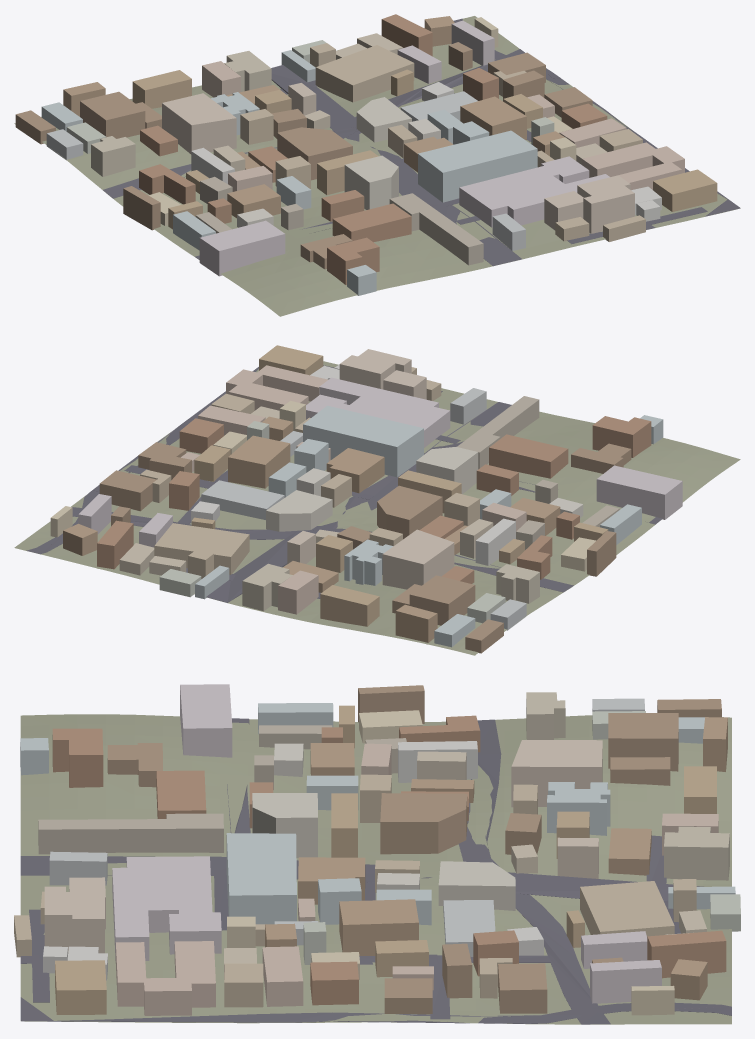
Rendered from chunk_7_5.glb.
The picture shows the model from 3 angles, top to bottom: view 1: azimuth 30°, elevation 25°; view 2: azimuth 150°, elevation 25°; view 3: azimuth 270°, elevation 25°; orthographic projection. The views are drawn at different scales.
Parts seen in each view (by area): view 1: geometry_100, geometry_54, geometry_98, geometry_46, geometry_97, geometry_2, geometry_73, geometry_10, geometry_87, geometry_0, geometry_3, geometry_43 (+66 smaller); view 2: geometry_100, geometry_54, geometry_98, geometry_2, geometry_97, geometry_73, geometry_46, geometry_3, geometry_45, geometry_72, geometry_0, geometry_82 (+66 smaller); view 3: geometry_100, geometry_98, geometry_10, geometry_54, geometry_73, geometry_45, geometry_46, geometry_97, geometry_2, geometry_72, geometry_107, geometry_87 (+84 smaller).
Part boxes in pixels (x1,y1,x2,y2): geometry_100: (14, 16, 740, 316); geometry_54: (418, 130, 537, 202); geometry_98: (459, 156, 609, 227); geometry_46: (315, 45, 414, 102); geometry_97: (162, 93, 236, 154); geometry_2: (199, 220, 285, 276); geometry_73: (582, 142, 684, 190); geometry_10: (389, 193, 483, 265); geometry_87: (577, 175, 634, 233); geometry_0: (80, 91, 145, 138); geometry_3: (332, 203, 411, 242); geometry_43: (344, 155, 398, 209); geometry_100: (14, 361, 740, 655); geometry_54: (303, 405, 423, 477); geometry_98: (306, 377, 450, 447); geometry_2: (596, 465, 682, 519); geometry_97: (382, 529, 454, 589); geometry_73: (226, 365, 327, 410); geometry_46: (154, 523, 249, 574); geometry_3: (489, 434, 568, 478); geometry_45: (377, 485, 442, 539); geometry_72: (228, 435, 290, 488); geometry_0: (409, 575, 475, 625); geometry_82: (266, 490, 332, 531); geometry_100: (20, 714, 731, 1024); geometry_98: (112, 856, 221, 960); geometry_10: (38, 813, 223, 854); geometry_54: (226, 833, 296, 924); geometry_73: (115, 941, 215, 1015); geometry_45: (380, 793, 467, 854); geometry_46: (580, 881, 674, 936); geometry_97: (511, 740, 602, 807); geometry_2: (180, 684, 232, 757); geometry_72: (339, 899, 418, 955); geometry_107: (515, 893, 610, 1024); geometry_87: (44, 886, 104, 953).
Size of the model in its own units: 253 by 20.81 by 256.
